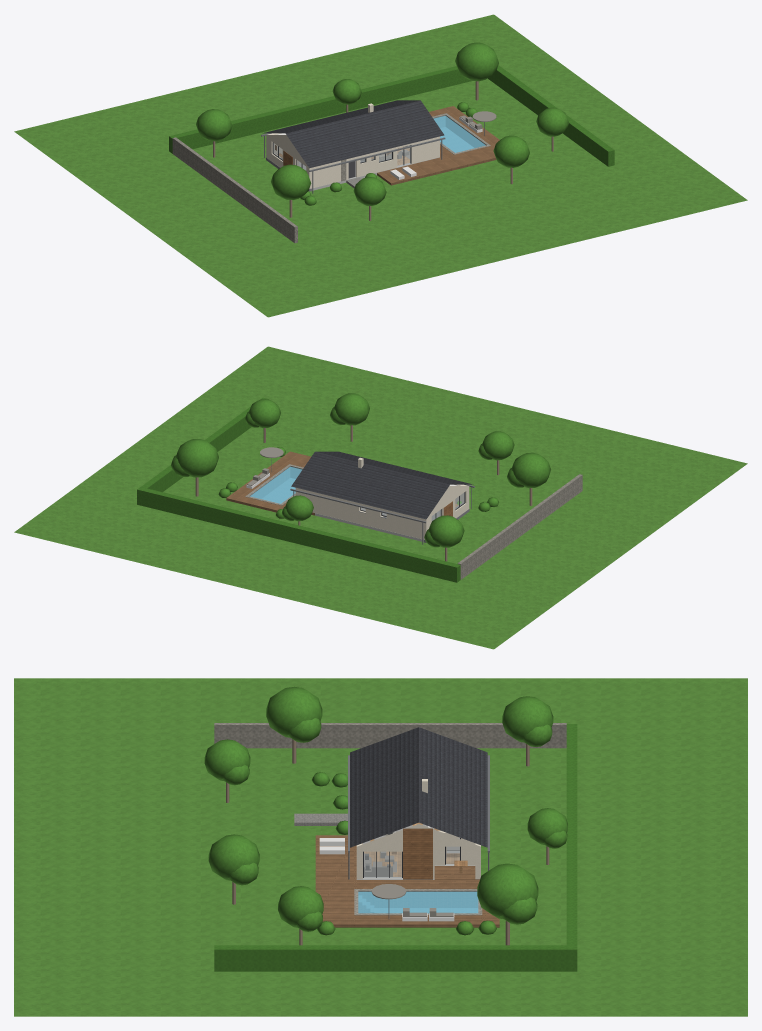
The model's file is house.glb.
3 renders of one model, top to bottom at view 1: azimuth 30°, elevation 25°; view 2: azimuth 150°, elevation 25°; view 3: azimuth 270°, elevation 25°, orthographic. The views are drawn at different scales.
Parts seen in each view (by area): view 1: teren, zahrada_ziva_plot, zahrada_listie_nc, strecha, zahrada_oplotenie, terasa_juh, 1NP_w3, voda_0, bazen_mozaika; view 2: teren, zahrada_ziva_plot, zahrada_listie_nc, strecha, zahrada_oplotenie, 1NP_w1, terasa_juh, voda_0, bazen_mozaika; view 3: teren, zahrada_listie_nc, strecha, zahrada_ziva_plot, zahrada_oplotenie, terasa_juh, voda_0, bazen_mozaika, nabytok_obklad_drevo, stit_E, 1NP_w4_sklo_dvere, exter_nabytok_biela (+6 smaller).
Part boxes in pixels (<box>): teren: <box>14,14,747,317</box>; zahrada_ziva_plot: <box>169,65,614,166</box>; zahrada_listie_nc: <box>196,42,568,205</box>; strecha: <box>263,100,444,168</box>; zahrada_oplotenie: <box>172,137,297,243</box>; terasa_juh: <box>377,106,499,185</box>; 1NP_w3: <box>307,136,439,188</box>; voda_0: <box>433,116,485,152</box>; bazen_mozaika: <box>433,115,485,152</box>; teren: <box>14,346,747,649</box>; zahrada_ziva_plot: <box>137,397,460,582</box>; zahrada_listie_nc: <box>171,393,550,547</box>; strecha: <box>291,451,473,519</box>; zahrada_oplotenie: <box>457,474,582,579</box>; 1NP_w1: <box>295,487,428,539</box>; terasa_juh: <box>226,451,310,512</box>; voda_0: <box>250,466,301,503</box>; bazen_mozaika: <box>250,466,302,503</box>; teren: <box>14,678,747,1016</box>; zahrada_listie_nc: <box>204,686,567,935</box>; strecha: <box>350,727,487,847</box>; zahrada_ziva_plot: <box>214,724,577,971</box>; zahrada_oplotenie: <box>214,723,566,748</box>; terasa_juh: <box>315,835,499,927</box>; voda_0: <box>358,892,478,913</box>; bazen_mozaika: <box>358,891,477,912</box>; nabytok_obklad_drevo: <box>403,828,432,879</box>; stit_E: <box>357,824,480,846</box>; 1NP_w4_sklo_dvere: <box>364,852,401,877</box>; exter_nabytok_biela: <box>319,838,454,921</box>.
Size of the model in its own units: 60 by 7.84 by 55.
34 materials, 20 textured.
